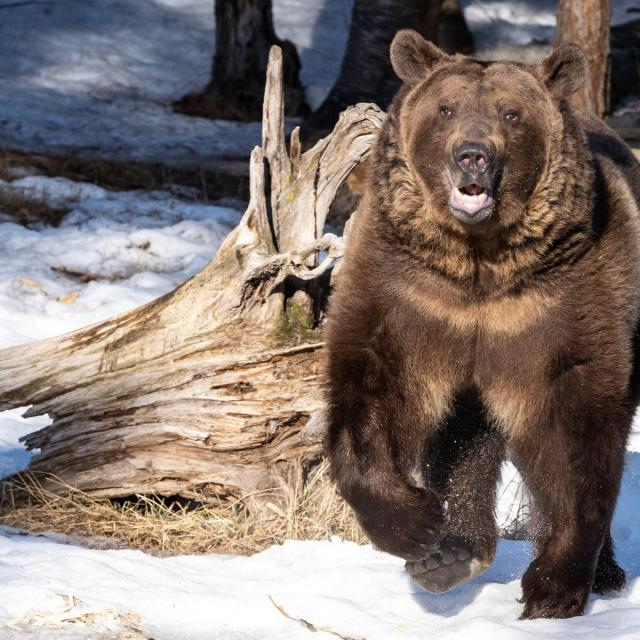Bear: (323, 29, 640, 623)
